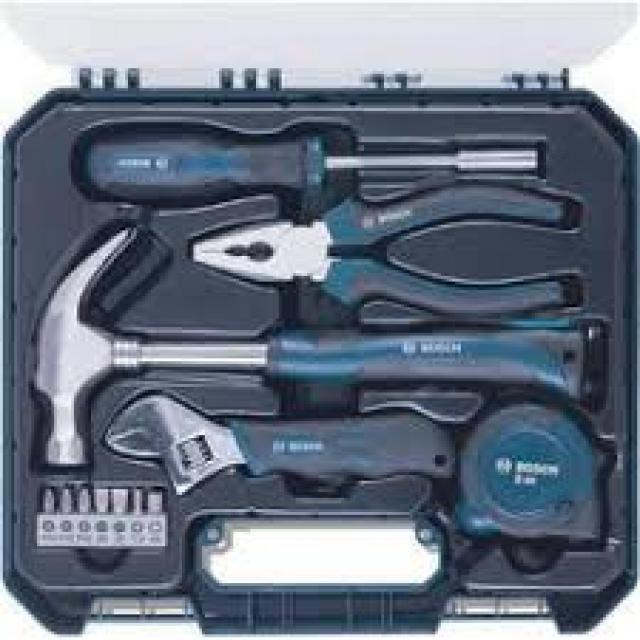hammer: (19, 219, 602, 484)
pliers: (184, 178, 590, 320)
screwdriver: (68, 113, 552, 210)
wrench: (97, 386, 462, 497)
